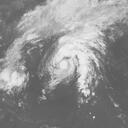cyclone: (49, 34, 99, 90)
